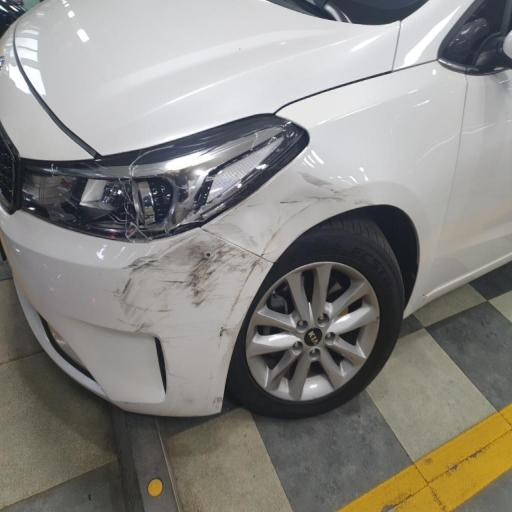scratch: (88, 134, 368, 386)
